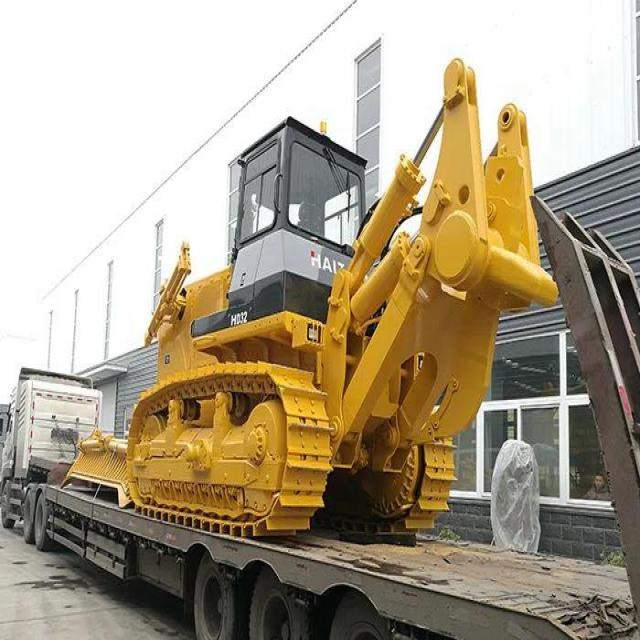Bulldozer: (115, 59, 591, 549)
